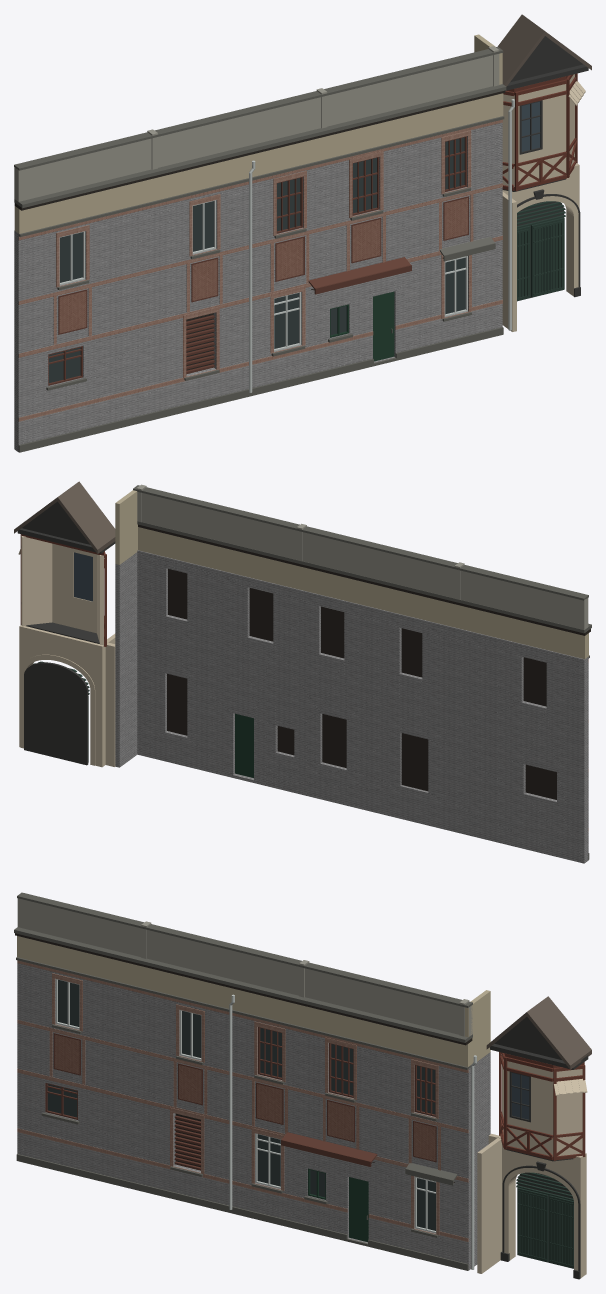
The model's file is full-source.glb.
3 renders of one model, top to bottom at view 1: azimuth 30°, elevation 25°; view 2: azimuth 150°, elevation 25°; view 3: azimuth 330°, elevation 25°, orthographic. The views are drawn at different scales.
Parts seen in each view (by area): view 1: 延庆路121号住宅砖砌街面与木筋凸窗; view 2: 延庆路121号住宅砖砌街面与木筋凸窗; view 3: 延庆路121号住宅砖砌街面与木筋凸窗.
Part boxes in pixels (x1,y1,x2,y2): 延庆路121号住宅砖砌街面与木筋凸窗: (14,14,591,452); 延庆路121号住宅砖砌街面与木筋凸窗: (14,481,591,863); 延庆路121号住宅砖砌街面与木筋凸窗: (14,892,591,1279).
Size of the model in its own units: 17.75 by 8.23 by 2.1.
17 materials, 3 textured.
